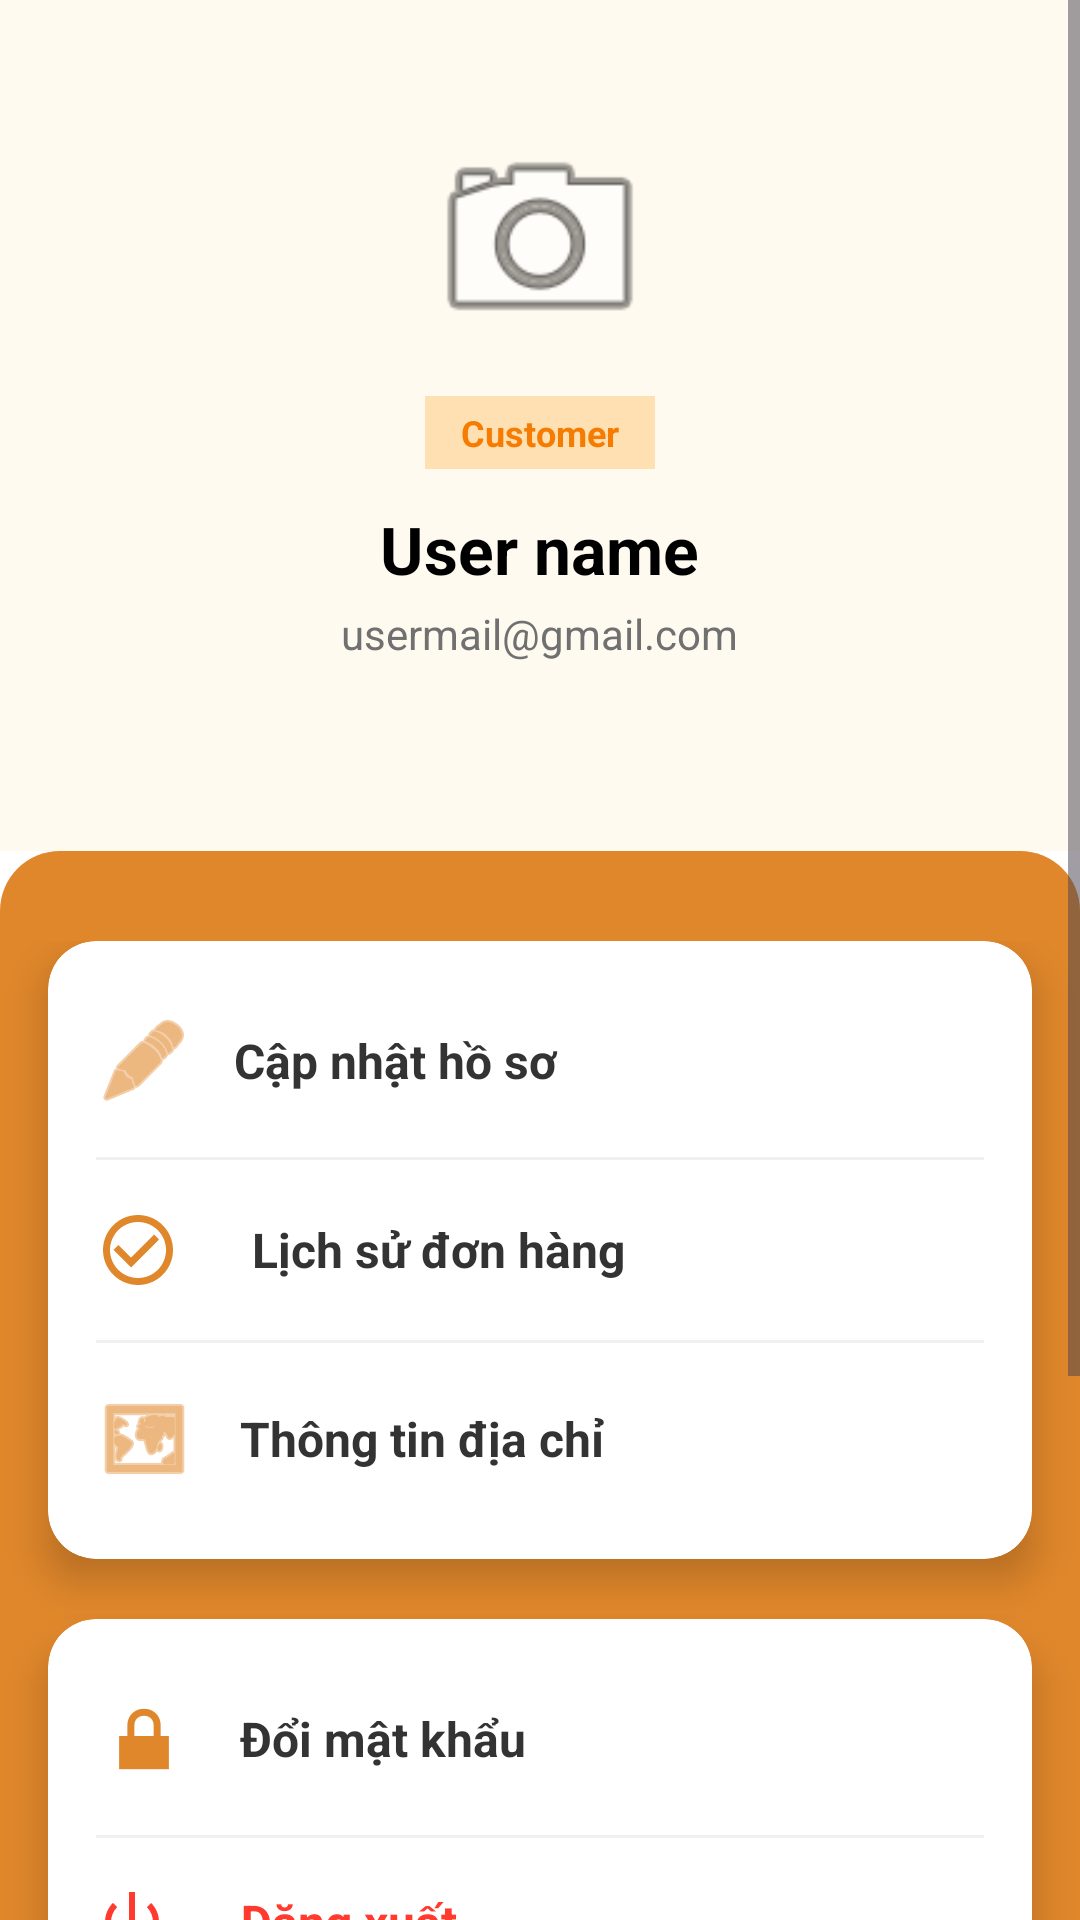

Point at icon controls on the screen. Image size 1080px×1920px, points as point (x, y).
camera: point (540, 236)
